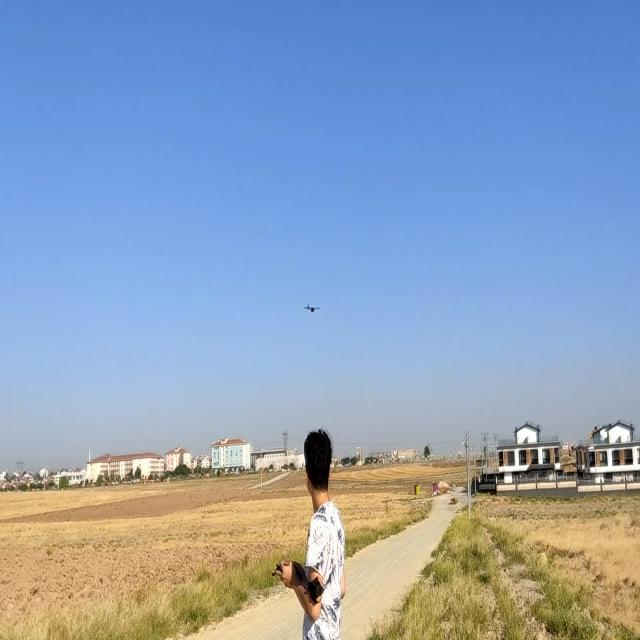UAV: (264, 290, 325, 336)
